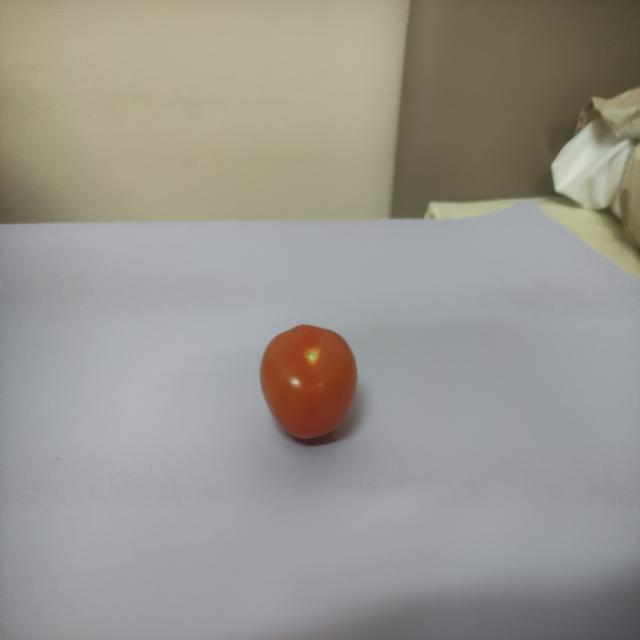sari: (253, 312, 370, 452)
